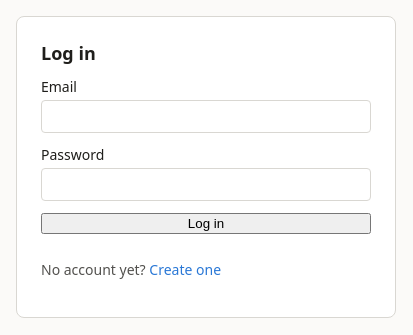
Test case: LoginGate › tells a pending account it waits for approval
Type "pat@example.test" into the field labelled "Email". click: point(206, 116)
box: [41,100,371,133]
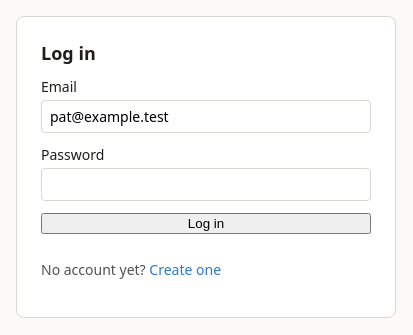
Type "pat-pass-12" into the password field labelled "Password". click: point(206, 184)
box: [41,168,371,201]
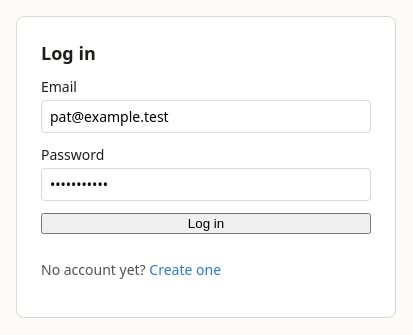
Click the button "Log in". click: point(206, 224)
box: [41,213,371,234]
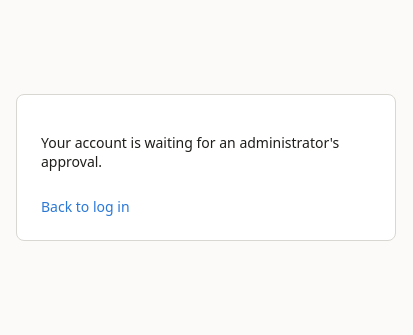
Check: the message shows "waiting for an administrator's approval", box [41,132,339,170]
